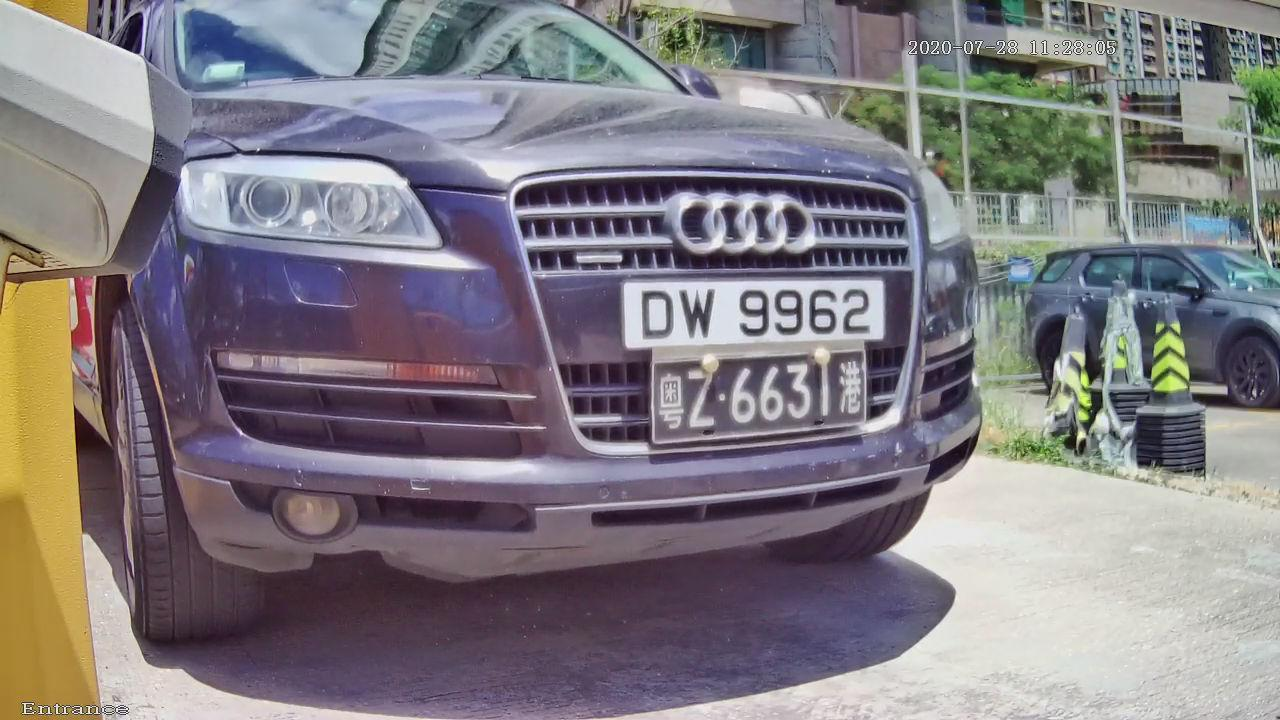privatecar: (18, 10, 1115, 708)
